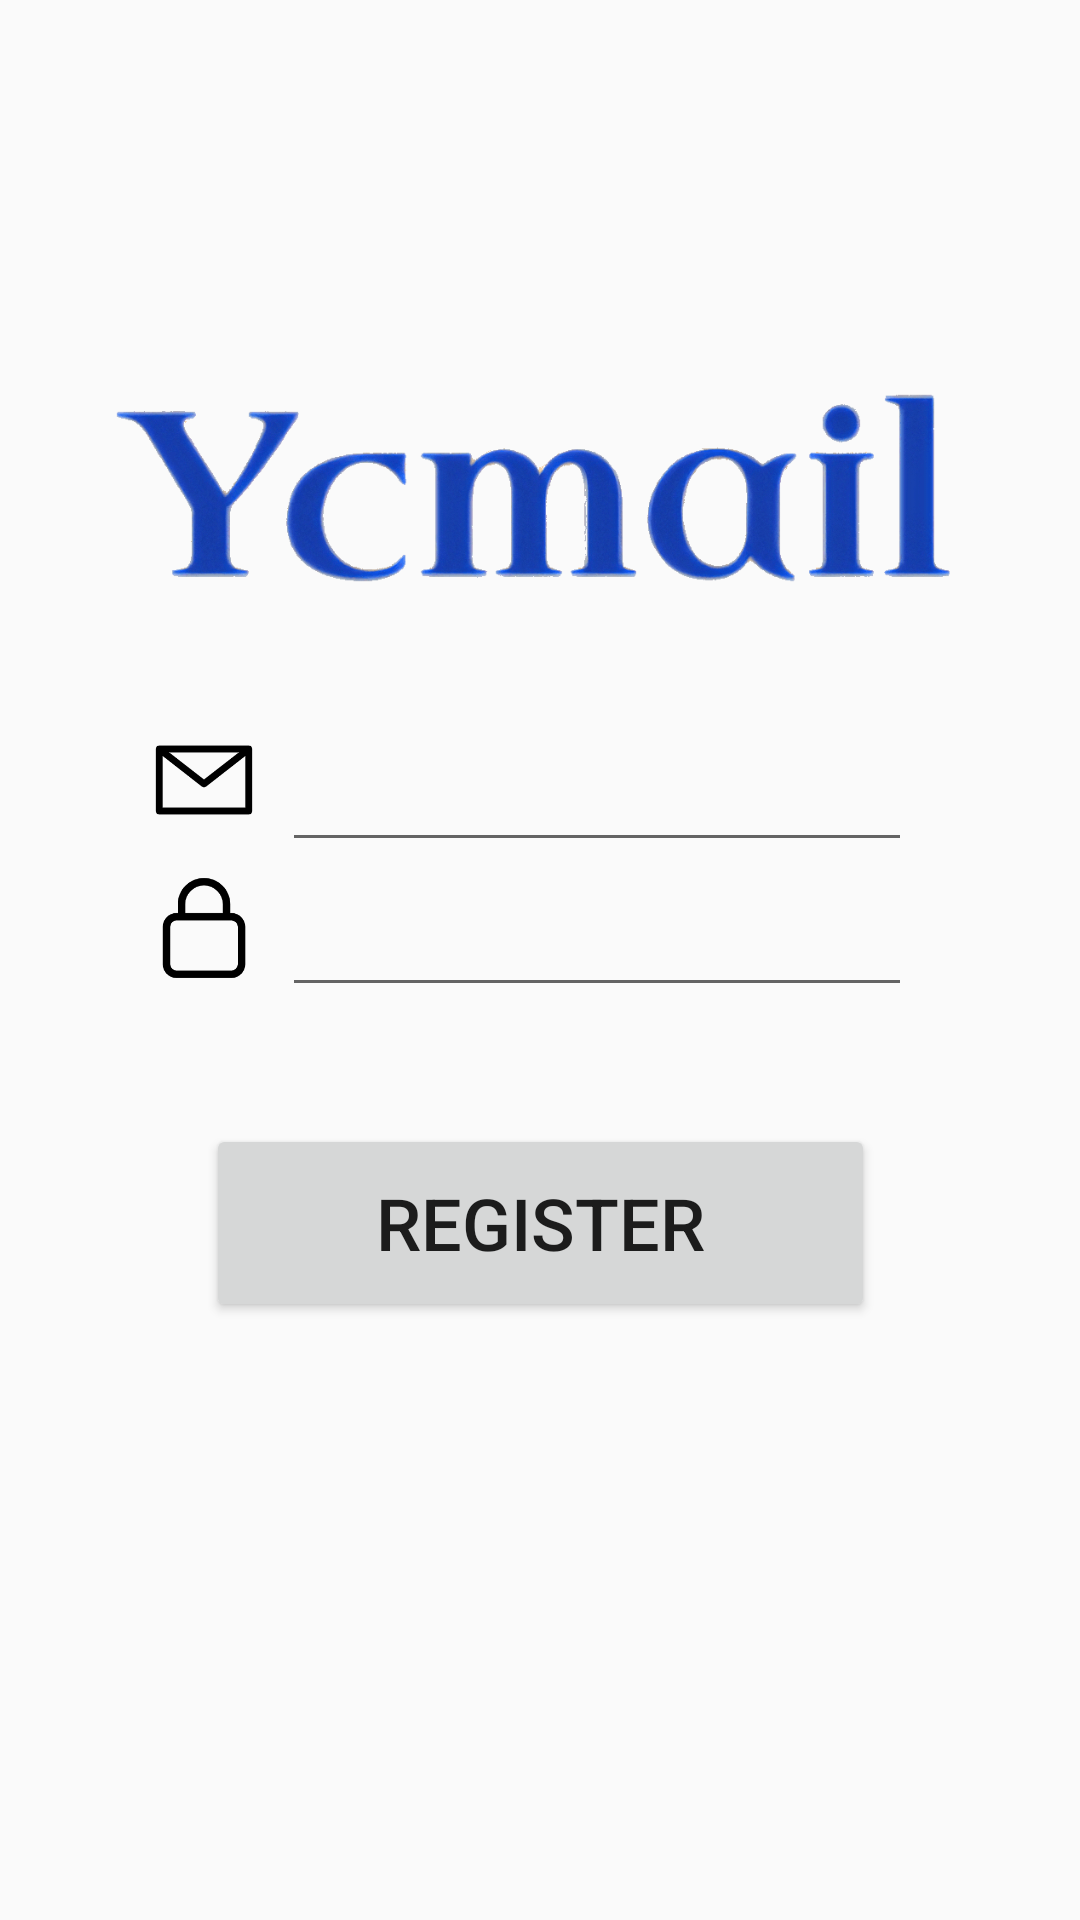

Point at icon controls on the screen. Image size 1080px x 1920px, points as (x=x, y=y).
email: (x=204, y=780)
password: (x=204, y=928)
